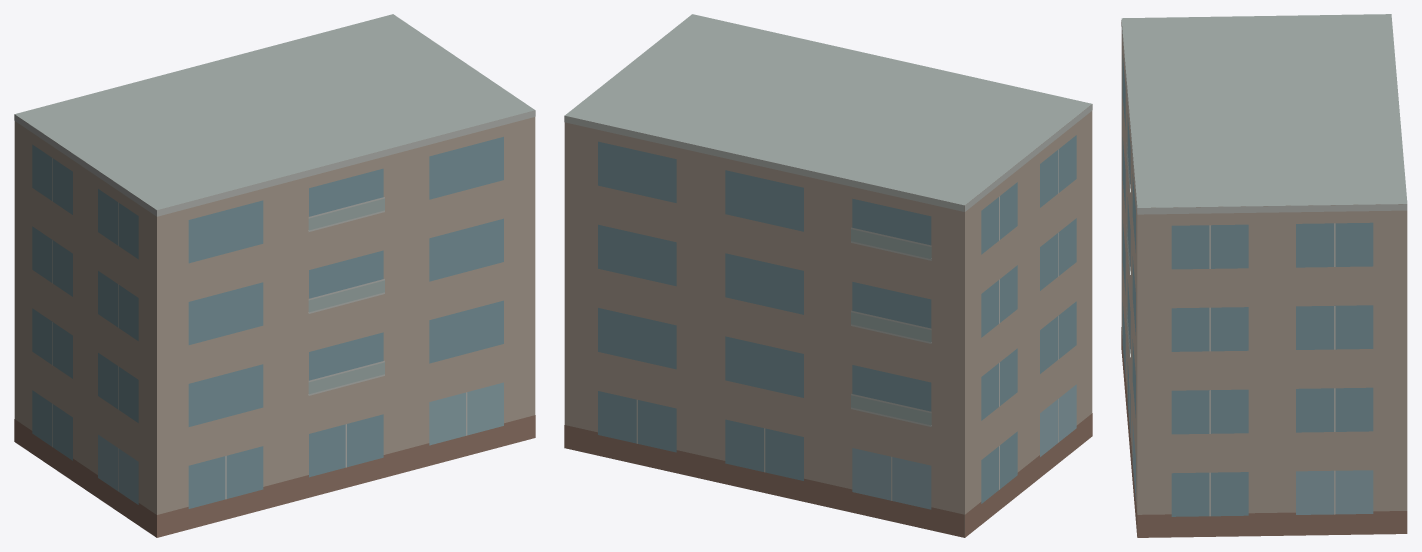
The model's file is residential-2cd69d15-55d8-46f5-98fb-70a0f9a94c8f.glb.
3 views of the same model, side by side, from view 1: azimuth 30°, elevation 25°; view 2: azimuth 150°, elevation 25°; view 3: azimuth 270°, elevation 25° (orthographic).
Parts seen in each view (by area): view 1: residential-2cd69d15-55d8-46f5-98fb-70a0f9a94c8f.tmp; view 2: residential-2cd69d15-55d8-46f5-98fb-70a0f9a94c8f.tmp; view 3: residential-2cd69d15-55d8-46f5-98fb-70a0f9a94c8f.tmp.
Part boxes in pixels (x1,y1,x2,y2): residential-2cd69d15-55d8-46f5-98fb-70a0f9a94c8f.tmp: (14,14,535,537); residential-2cd69d15-55d8-46f5-98fb-70a0f9a94c8f.tmp: (564,14,1092,537); residential-2cd69d15-55d8-46f5-98fb-70a0f9a94c8f.tmp: (1121,14,1407,537).
Bounding box in the file's own units: 15.39 × 12.2 × 9.6.
